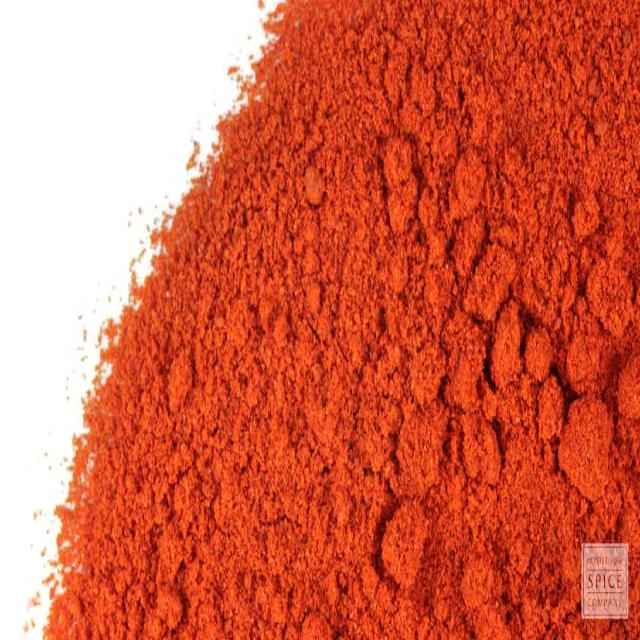Paprika: (42, 2, 640, 640), (278, 93, 582, 484), (61, 177, 253, 584)
